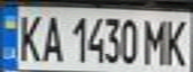0: (118, 15, 142, 65)
1: (66, 12, 87, 63)
3: (103, 14, 124, 65)
4: (84, 13, 106, 64)
A: (36, 11, 66, 63)
K: (12, 10, 45, 63), (160, 15, 193, 67)
M: (142, 16, 172, 66)
